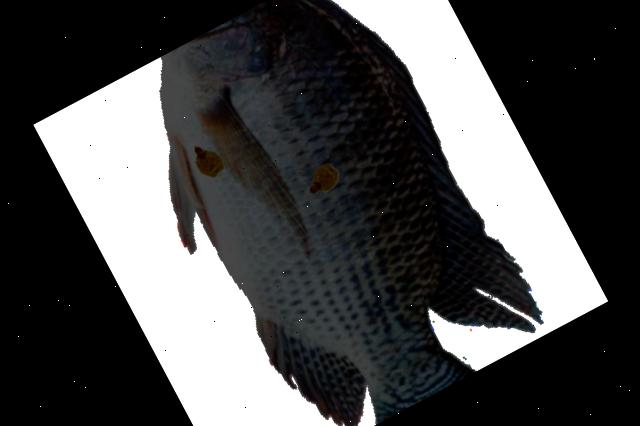Parasitic Disease: (160, 0, 539, 426), (161, 0, 539, 426)
